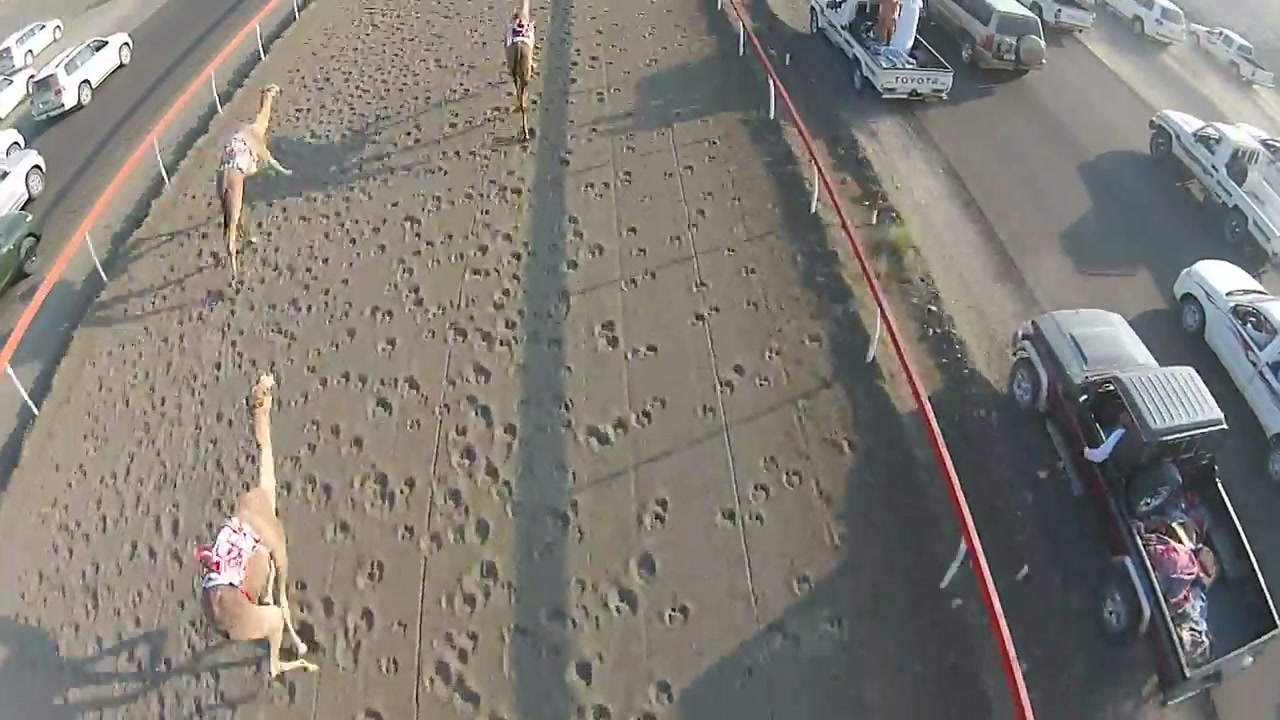animal_foot_print: (100, 86, 382, 606), (546, 31, 679, 684), (415, 67, 549, 704), (278, 149, 426, 680)
